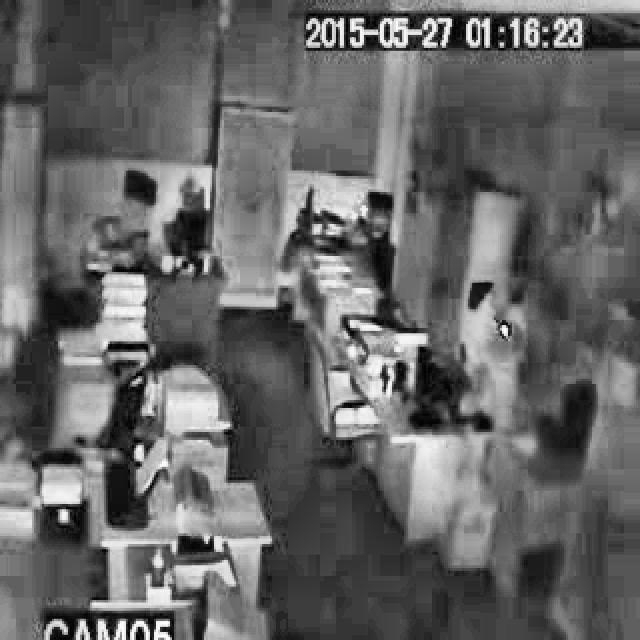burglary: (443, 255, 577, 468)
